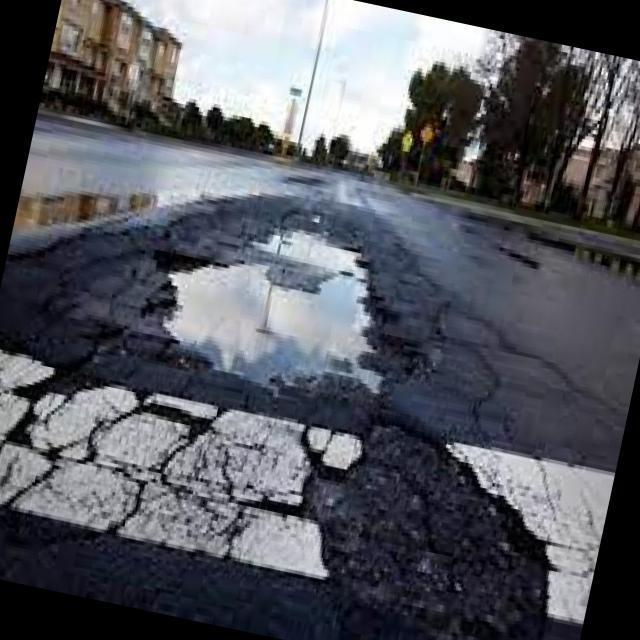-: (91, 232, 430, 433)
